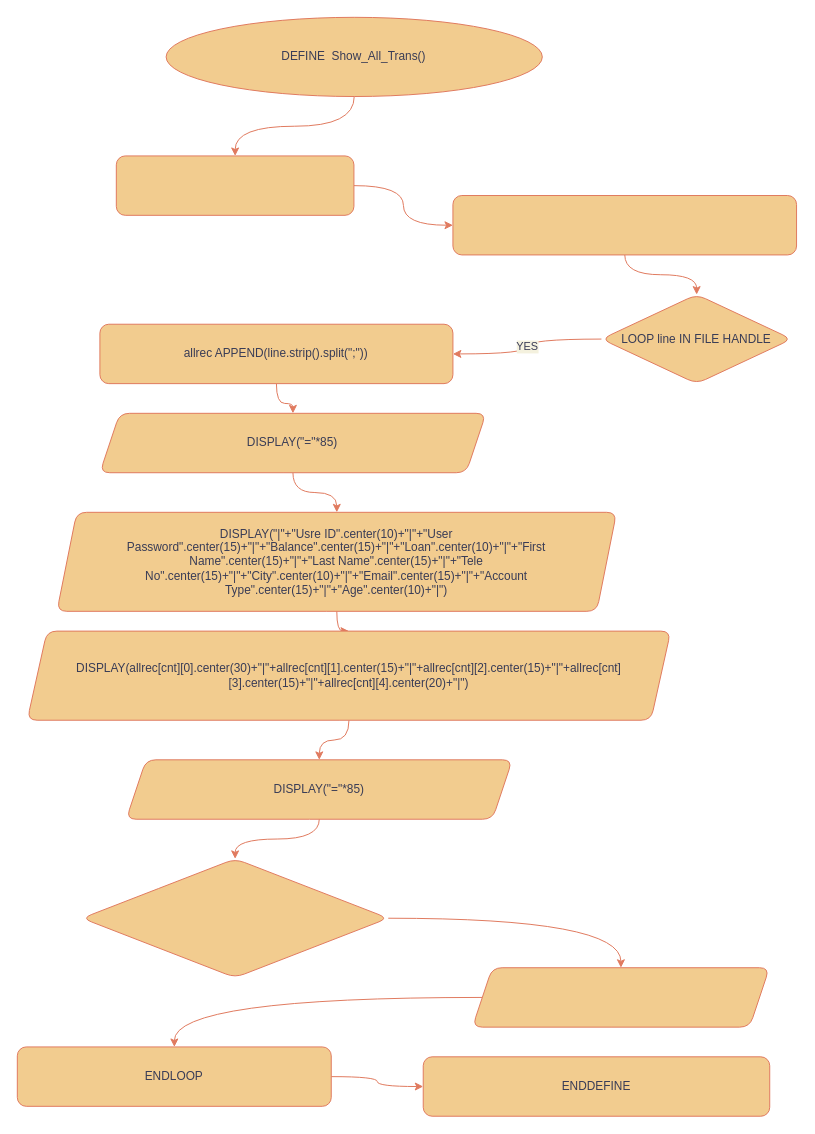
This 815x1134 diagram has some shape labels left out. Here are the shapes that lost their labels. From the top down, the centre of each, then its label:
[234,185]: SET All Recored TO Empty List
[624,225]: WITH OPEN("Transaction.txt","r") as FILE HANDLE
[234,918]: LOOP cnt IN RANGE(0,LENGTH(allrec))
[620,997]: GET("Press Enter to continue...\n")
